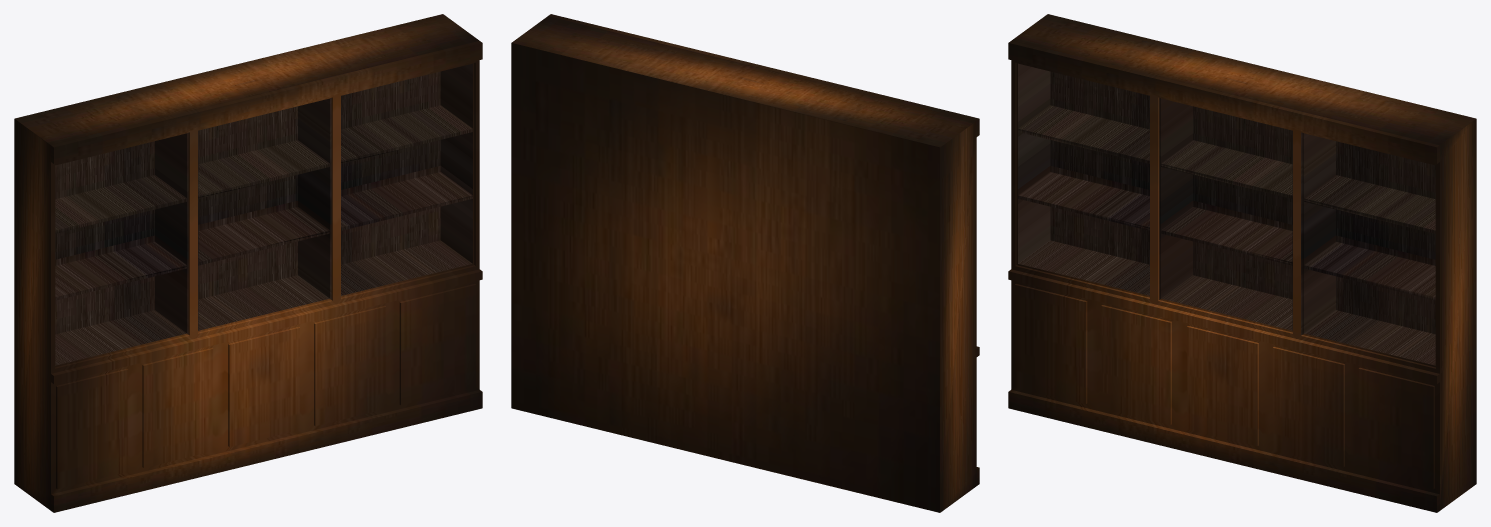
File: bookshelf1.FBX
3 renders of one model, left to right at view 1: azimuth 30°, elevation 25°; view 2: azimuth 150°, elevation 25°; view 3: azimuth 330°, elevation 25°, orthographic.
Visible parts, largest first — view 1: Box001; view 2: Box001; view 3: Box001.
Part boxes in pixels (bbox=[...]): Box001: bbox=[14, 14, 482, 512]; Box001: bbox=[511, 14, 979, 512]; Box001: bbox=[1008, 14, 1476, 512].
Bounding box in the file's own units: 106 × 86.61 × 16.93.
2 materials, 2 textured.
